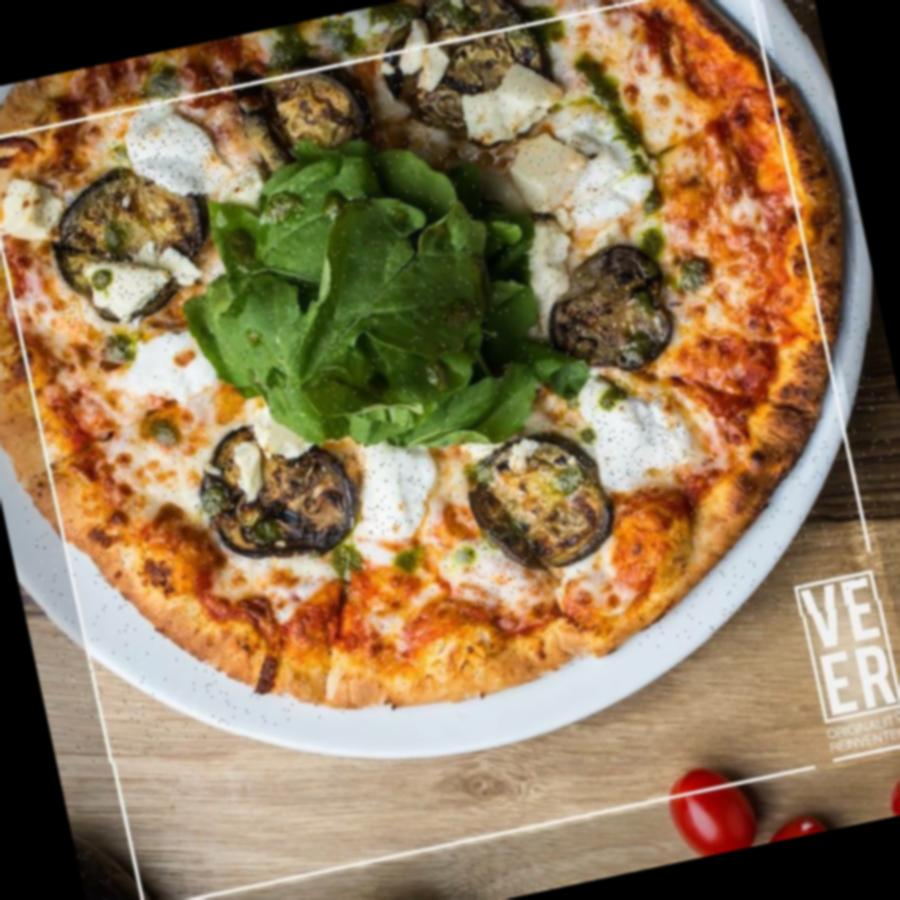Arugula: (180, 111, 570, 489)
Cheese: (102, 72, 256, 216), (90, 332, 240, 471), (518, 91, 646, 233), (446, 526, 556, 628), (592, 388, 694, 485), (346, 436, 434, 546)
Peppers: (33, 154, 220, 333), (184, 414, 358, 578), (466, 423, 614, 563), (393, 0, 548, 127), (536, 235, 658, 365), (251, 40, 360, 155)
Pizza: (0, 0, 900, 769)
